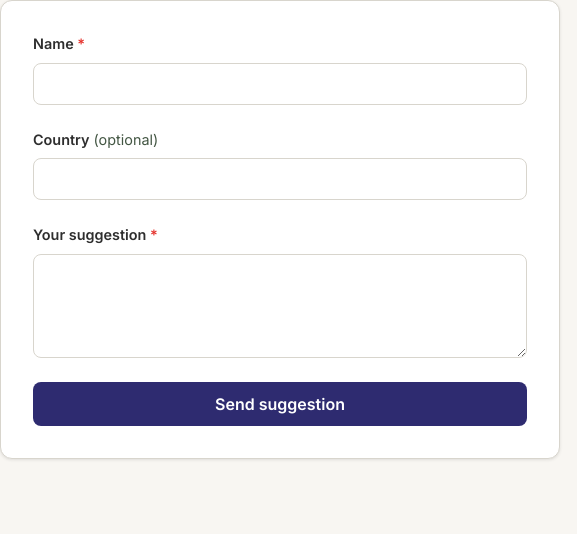
Scenario: SuggestionForm › blocks submission and shows inline errors when Name and Feedback are empty
Click the button "Send suggestion": click(280, 404) [33,382,527,426]
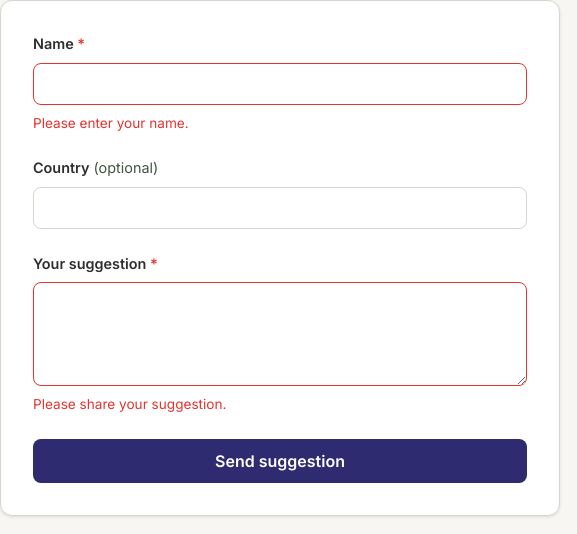
Check: the text "Please enter your name." is shown, box [33,115,189,131]
Check: the text "Please share your suggestion." is shown, box [33,396,226,412]
